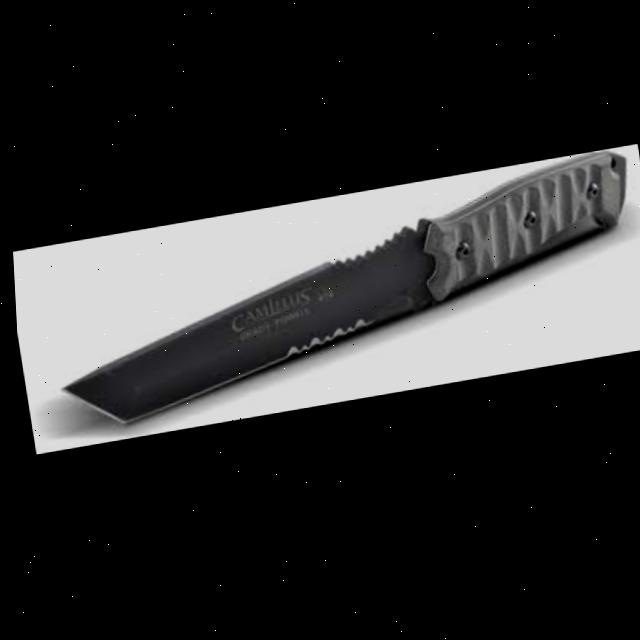knife: (32, 153, 640, 434)
